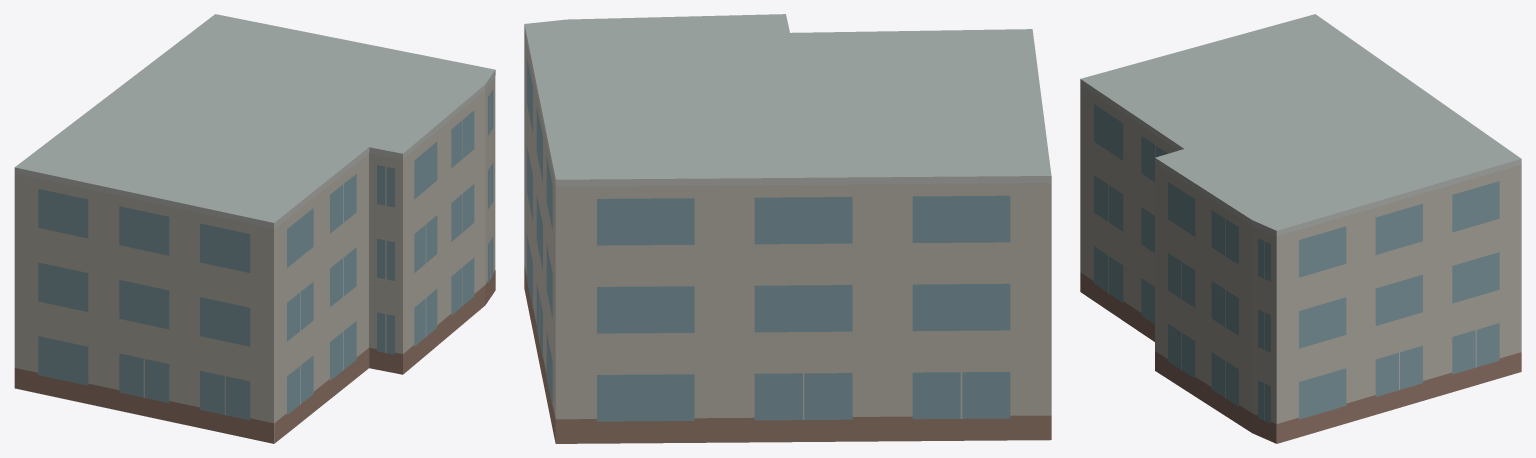
The model's file is survey-upis-33012384.glb.
3 views of the same model, side by side, from view 1: azimuth 30°, elevation 25°; view 2: azimuth 150°, elevation 25°; view 3: azimuth 270°, elevation 25° (orthographic). The views are drawn at different scales.
Parts seen in each view (by area): view 1: survey-upis-33012384.tmp; view 2: survey-upis-33012384.tmp; view 3: survey-upis-33012384.tmp.
Boxes of the visible parts, left/top/right/bottom form: survey-upis-33012384.tmp: left=14, top=14, right=495, bottom=443; survey-upis-33012384.tmp: left=524, top=14, right=1051, bottom=443; survey-upis-33012384.tmp: left=1080, top=14, right=1521, bottom=443.
Size of the model in its own units: 19.98 by 9.15 by 17.19.
